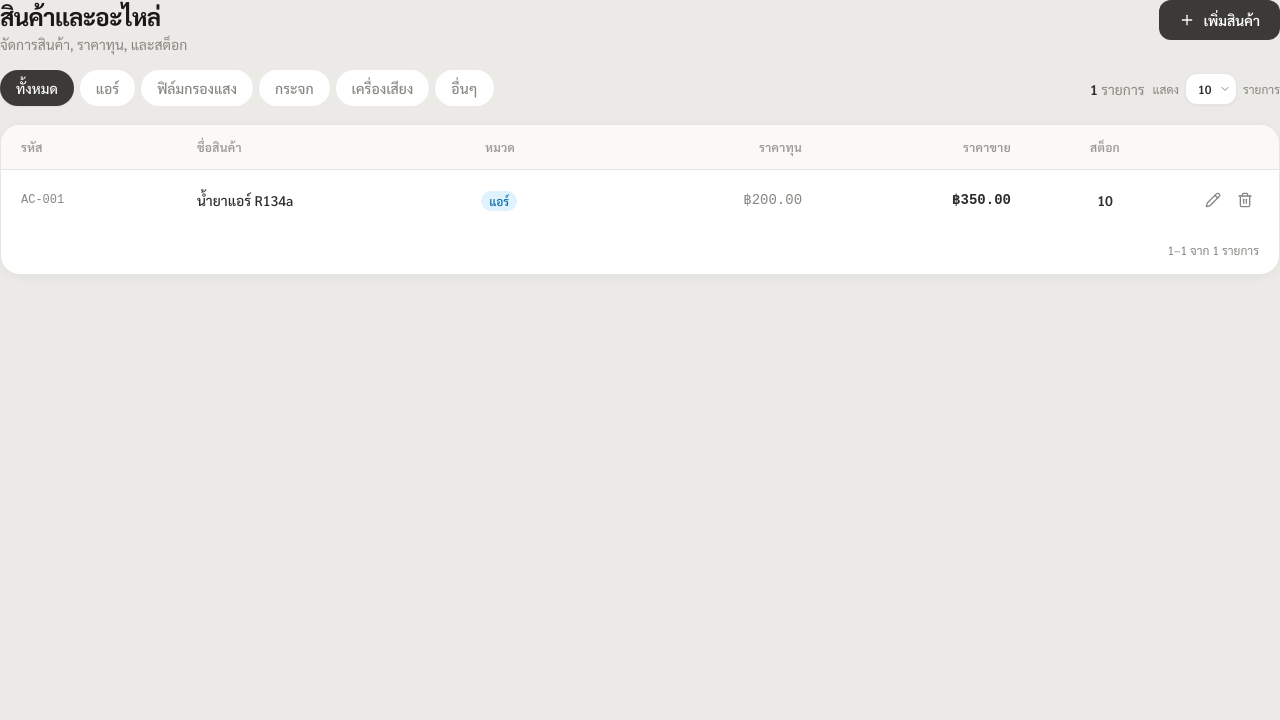
Test: ProductsPage › shows delete confirmation AlertDialog when trash button clicked
The image size is (1280, 720).
Click the button titled "ลบ". click: click(1245, 200)
box: [1231, 186, 1259, 214]
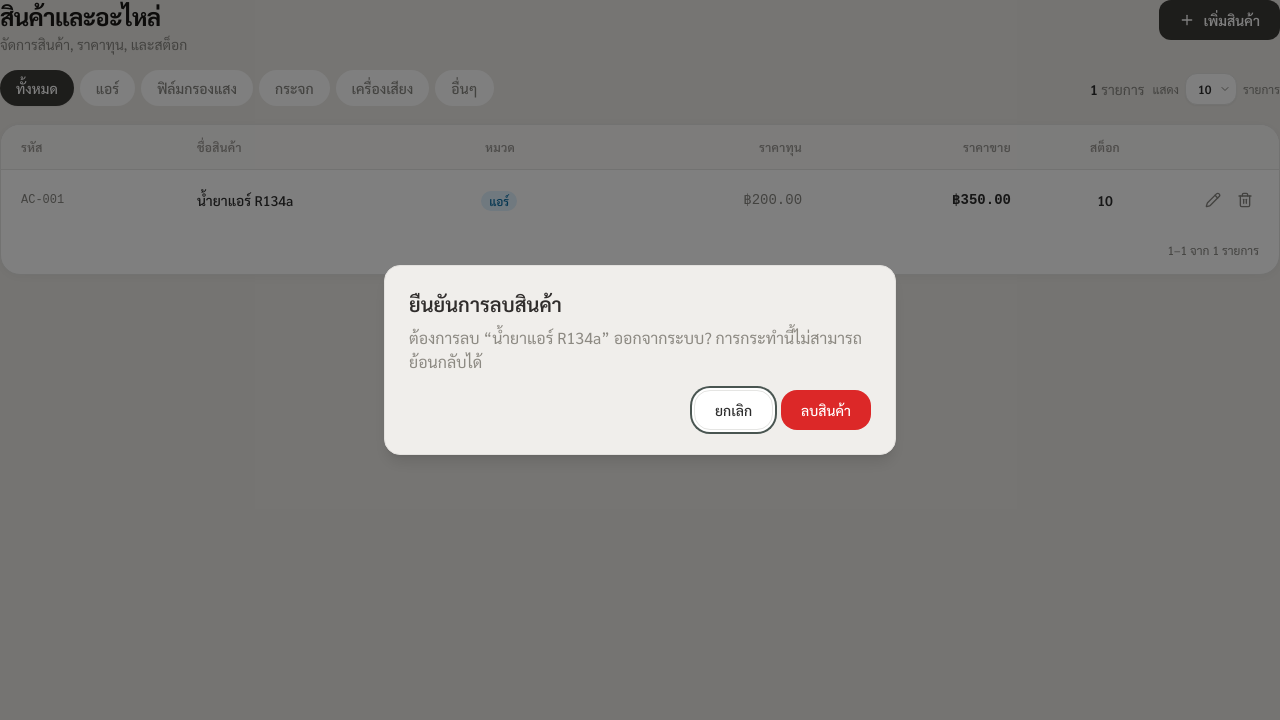
Check: the heading "ยืนยันการลบสินค้า" is shown, box [409, 291, 562, 317]
Check: the text "ต้องการลบ" is shown, box [409, 327, 492, 348]
